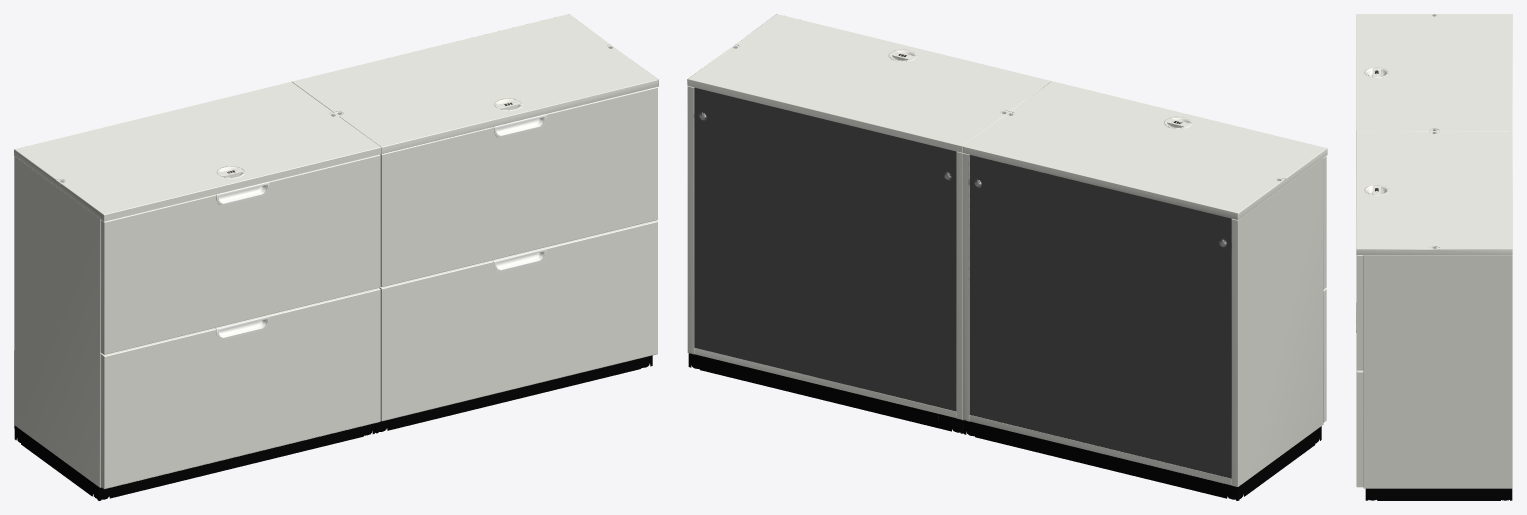
Rendered from GALANT storage combination with filing - white.glb.
3 views of the same model, side by side, from view 1: azimuth 30°, elevation 25°; view 2: azimuth 150°, elevation 25°; view 3: azimuth 270°, elevation 25° (orthographic). The views are drawn at different scales.
Parts seen in each view (by area): view 1: Mesh_0; view 2: Mesh_0; view 3: Mesh_0.
Boxes of the visible parts, bbox=[...] form: Mesh_0: bbox=[14, 14, 658, 500]; Mesh_0: bbox=[687, 14, 1327, 500]; Mesh_0: bbox=[1356, 14, 1512, 500].
Size of the model in its own units: 1.6 by 0.8035 by 0.4499.
Materials: 1 (1 with a texture image).
